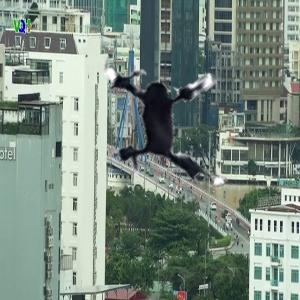drone: (77, 19, 272, 214)
